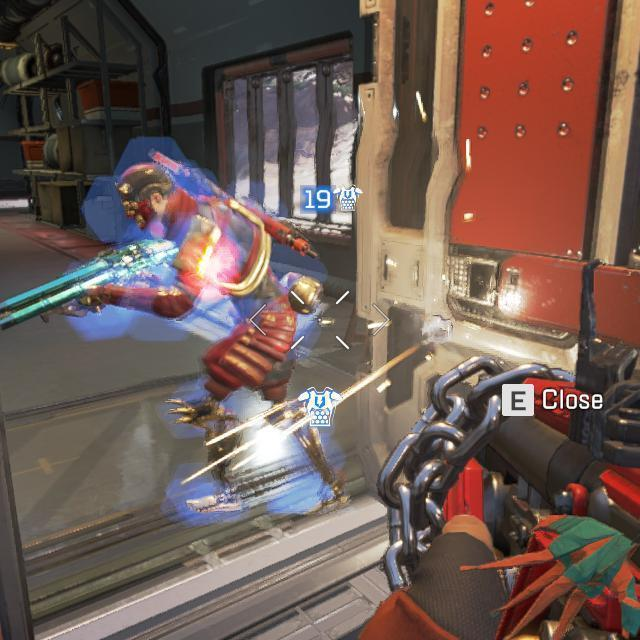avatar: (73, 162, 350, 520)
